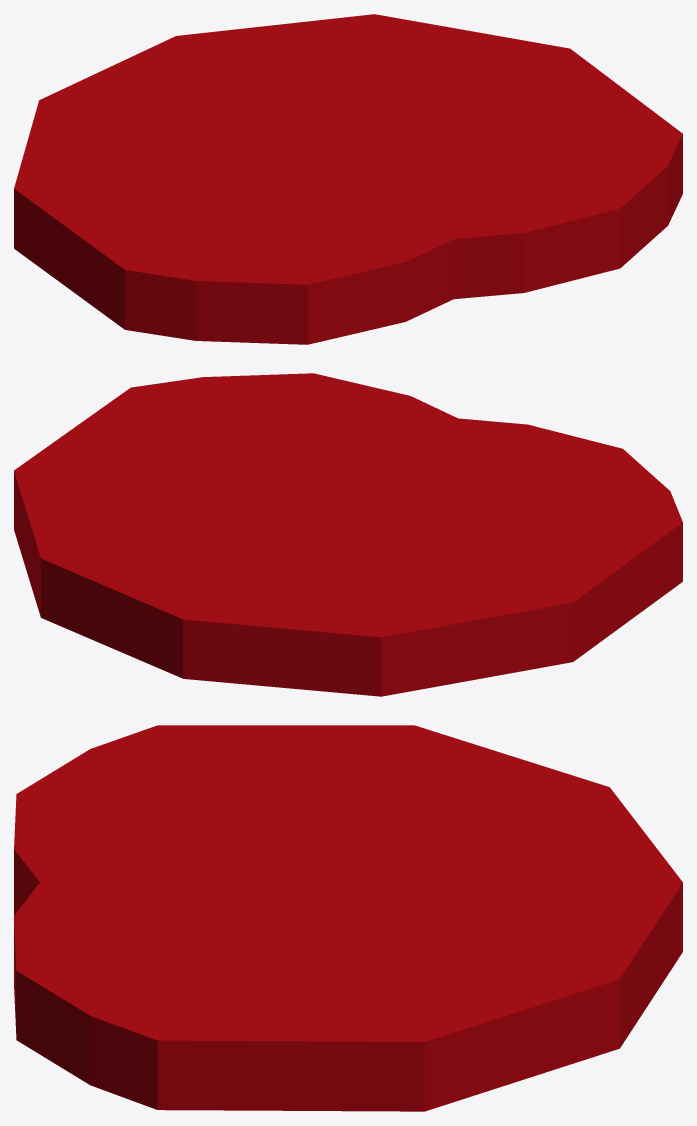
File: cuttedTomato.fbx
3 renders of one model, top to bottom at view 1: azimuth 30°, elevation 25°; view 2: azimuth 150°, elevation 25°; view 3: azimuth 270°, elevation 25°, orthographic. The views are drawn at different scales.
Visible parts, largest first — view 1: Cylinder; view 2: Cylinder; view 3: Cylinder.
Part boxes in pixels (x1,y1,x2,y2): Cylinder: (14, 14, 682, 344); Cylinder: (14, 373, 682, 696); Cylinder: (14, 725, 682, 1111).
Bounding box in the file's own units: 9.78 × 1 × 8.73.
